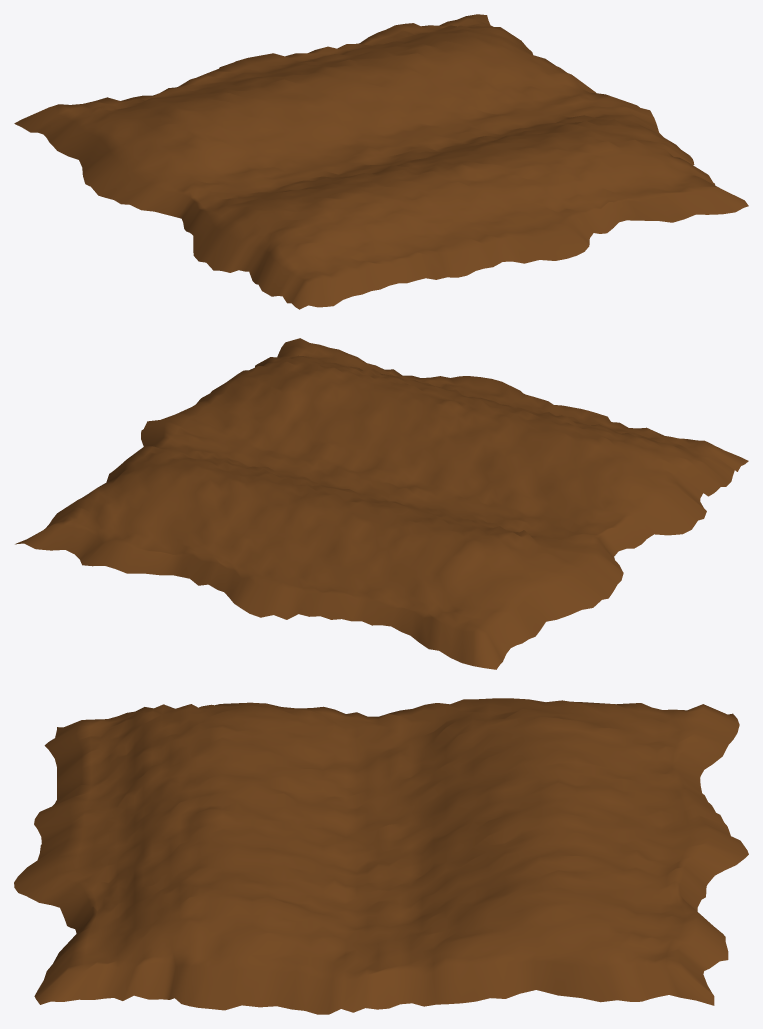
Rendered from mesh_farmplot.fbx.
3 views of the same model, one above another, from view 1: azimuth 30°, elevation 25°; view 2: azimuth 150°, elevation 25°; view 3: azimuth 270°, elevation 25° (orthographic). The views are drawn at different scales.
Visible parts, largest first — view 1: mesh_farmplot; view 2: mesh_farmplot; view 3: mesh_farmplot.
Boxes of the visible parts, bbox=[...] form: mesh_farmplot: bbox=[14, 14, 748, 309]; mesh_farmplot: bbox=[15, 338, 748, 669]; mesh_farmplot: bbox=[14, 698, 748, 1014].
Size of the model in its own units: 2.29 by 0.2122 by 2.28.
